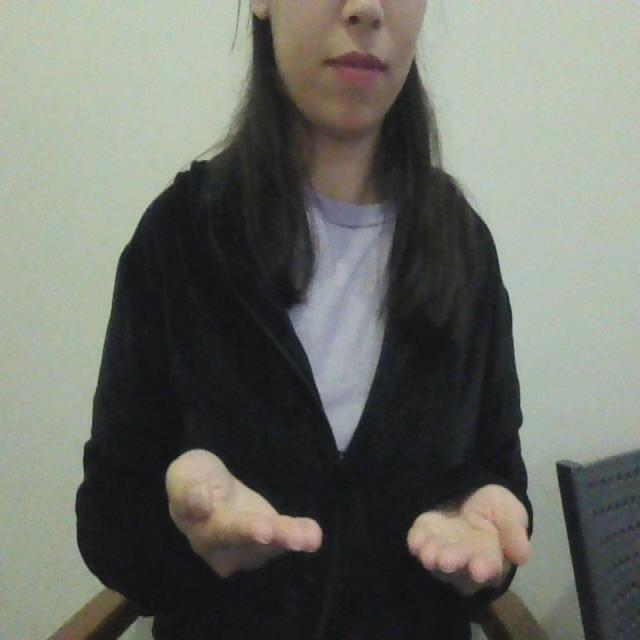Evet: (157, 440, 545, 610)
